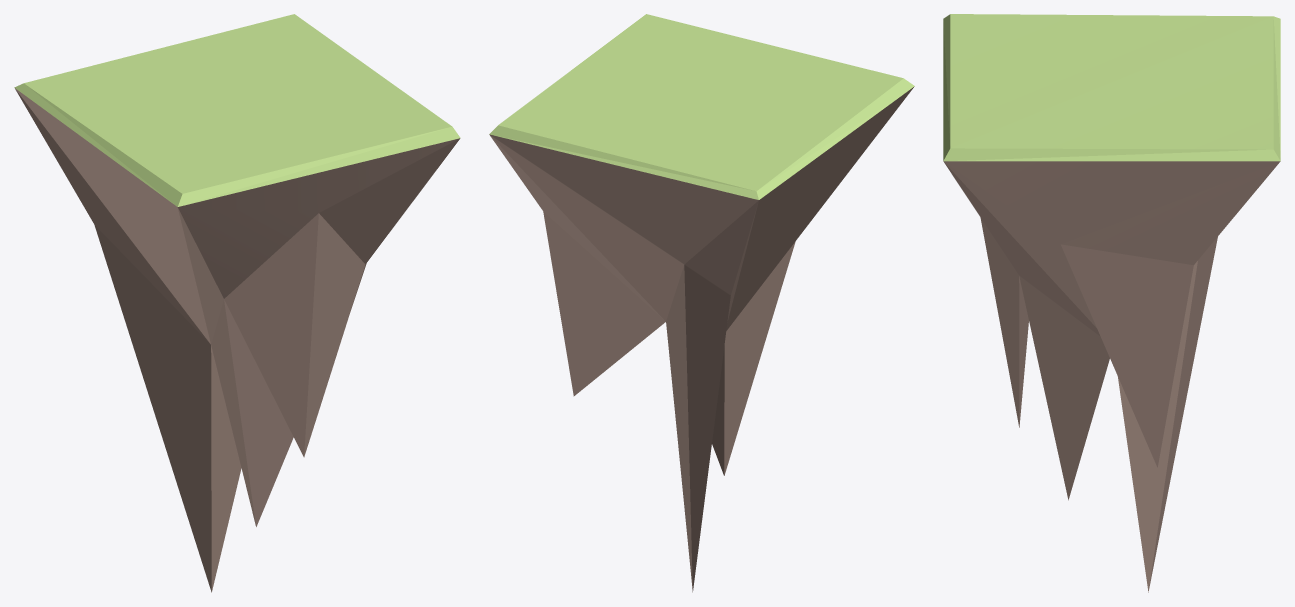
The model's file is land.gltf.
3 views of the same model, side by side, from view 1: azimuth 30°, elevation 25°; view 2: azimuth 150°, elevation 25°; view 3: azimuth 270°, elevation 25° (orthographic). The views are drawn at different scales.
Visible parts, largest first — view 1: mesh1926919455; view 2: mesh1926919455; view 3: mesh1926919455.
Part boxes in pixels (box(x1,y1,x2,y2)): mesh1926919455: box(14, 14, 460, 592); mesh1926919455: box(489, 14, 914, 592); mesh1926919455: box(943, 14, 1280, 592).
Bounding box in the file's own units: 261 × 442 × 261.
